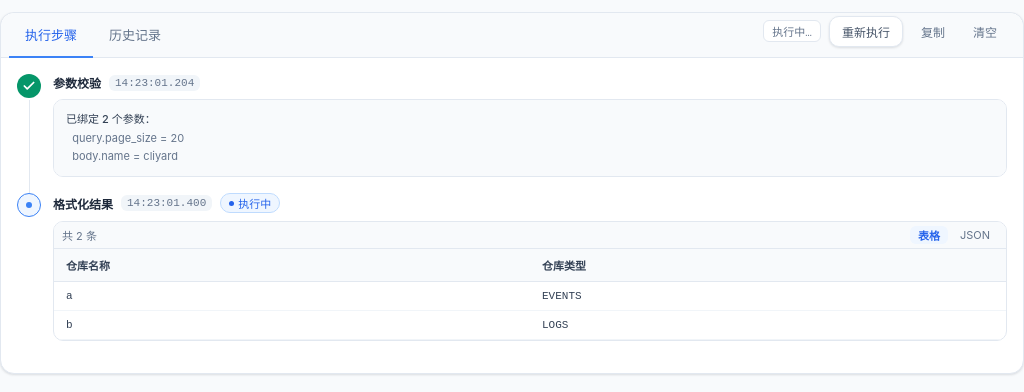
Test: StepsPanel › format 事件带 table 时默认渲染表格视图（alias 列头 + 行值），可切换 JSON
expect the column heading "仓库名称" is shown: met, box x1=54 y1=249 x2=530 y2=282
expect the column heading "仓库类型" is shown: met, box x1=530 y1=249 x2=1006 y2=282
# 切换 JSON → 显示 output_preview 文本，表格消失
Click the button with test id "format-view-json": click(975, 235) x1=952 y1=226 x2=998 y2=244
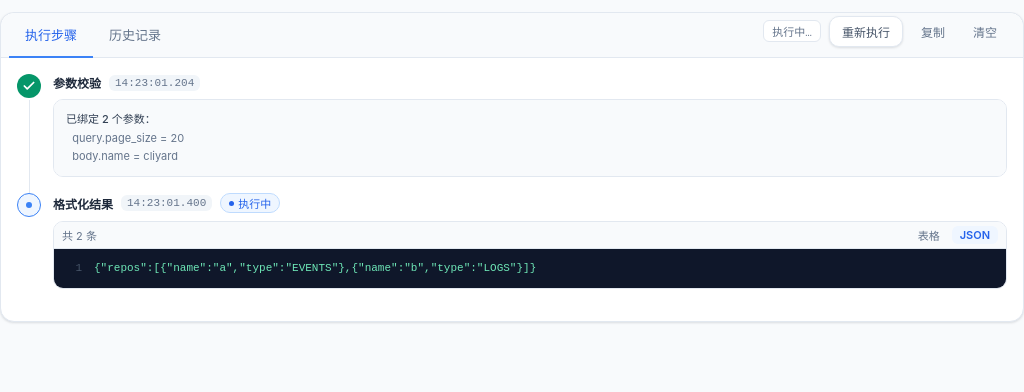
expect the text "\"repos\"" is shown: met, box x1=94 y1=262 x2=536 y2=274
expect the column heading "仓库名称" is gone: met
Click the button with test id "format-view-table": click(929, 235) x1=910 y1=226 x2=948 y2=244
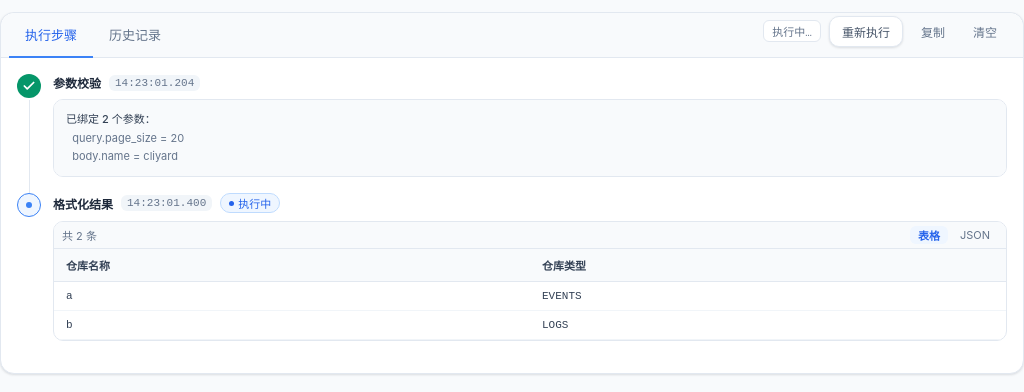
expect the column heading "仓库名称" is shown: met, box x1=54 y1=249 x2=530 y2=282
